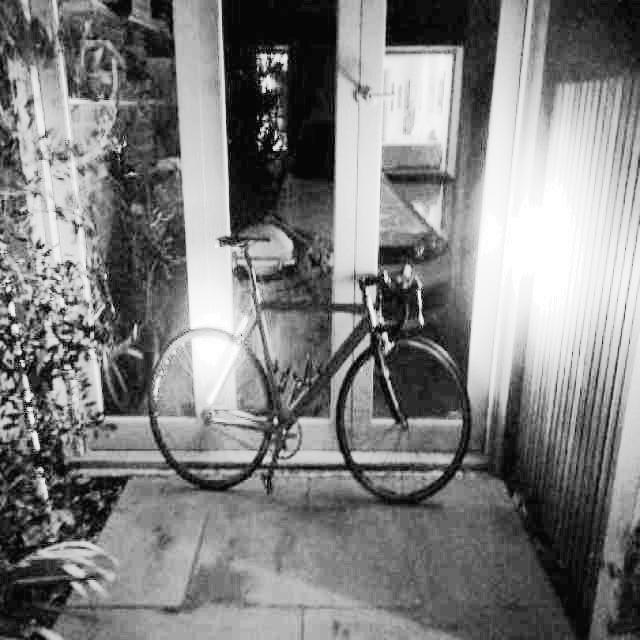Bicycle: (136, 231, 471, 503)
